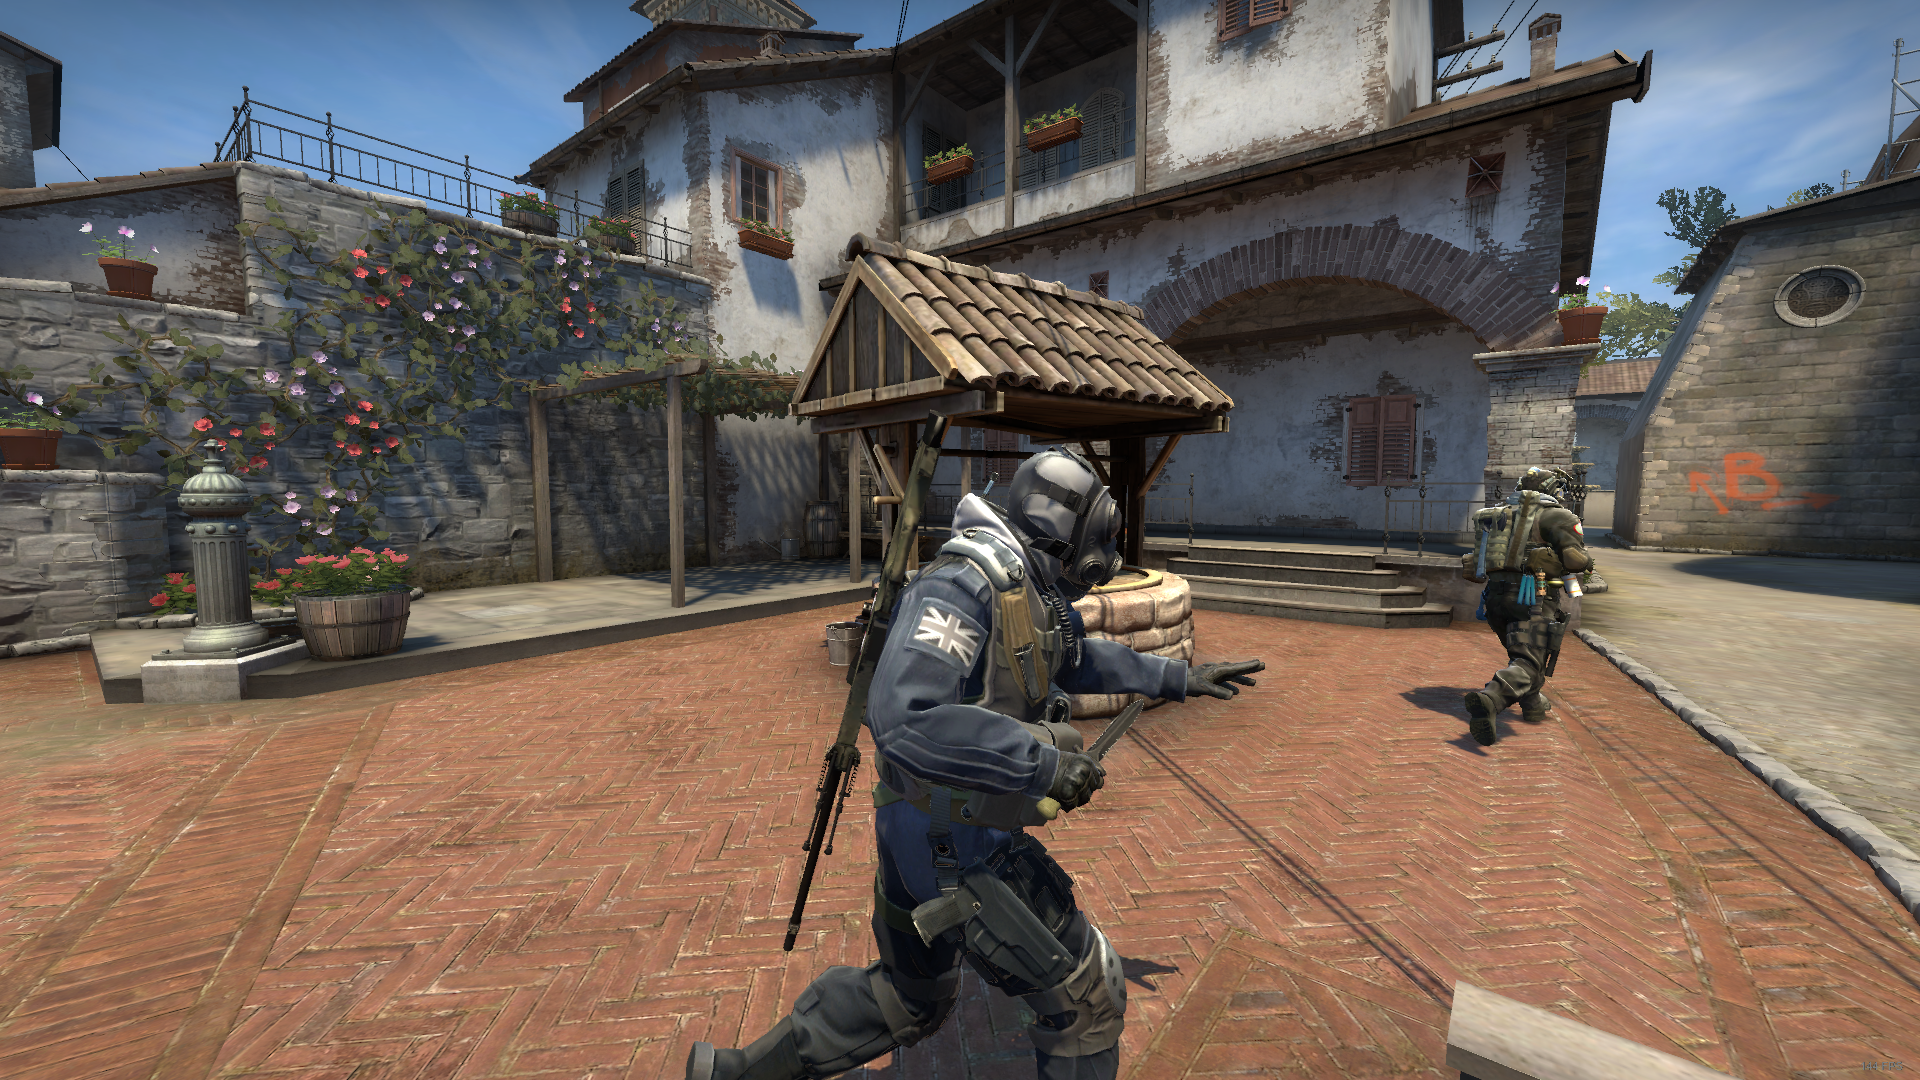ct: (682, 444, 1266, 1080)
